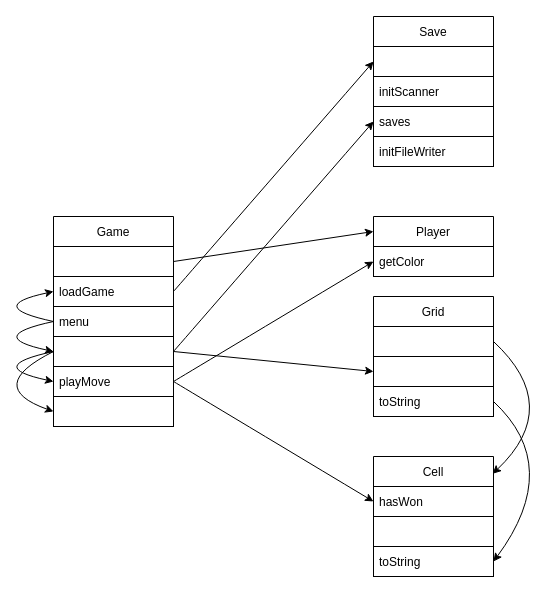
Image size: 546x593. Some labels were removed from this diagram. Here are the shapes that lost their labels. From the top down, the centre of each, then its label:
At pixel 433 61: "loads".
At pixel 113 261: "createPlayersList".
At pixel 113 351: "playGame".
At pixel 433 341: "initialize".
At pixel 433 371: "isFull".
At pixel 113 411: "promptColumn".
At pixel 433 531: "set()".
